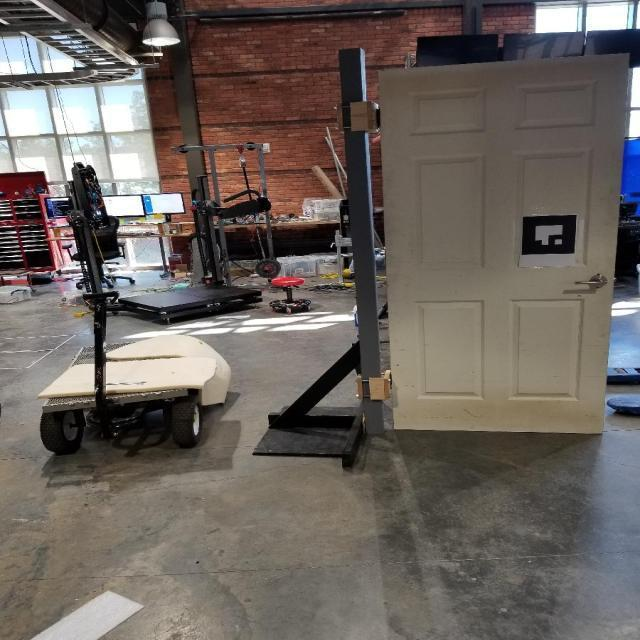door: (376, 51, 632, 436), (571, 272, 611, 294)
